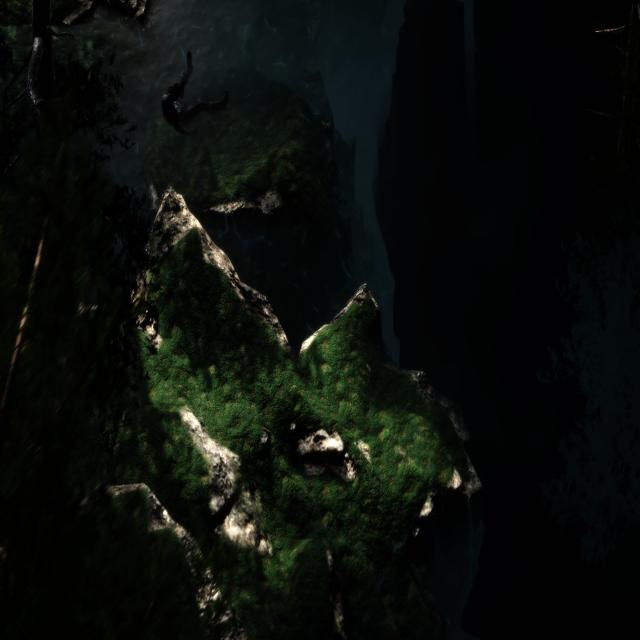Human: (160, 46, 227, 136)
